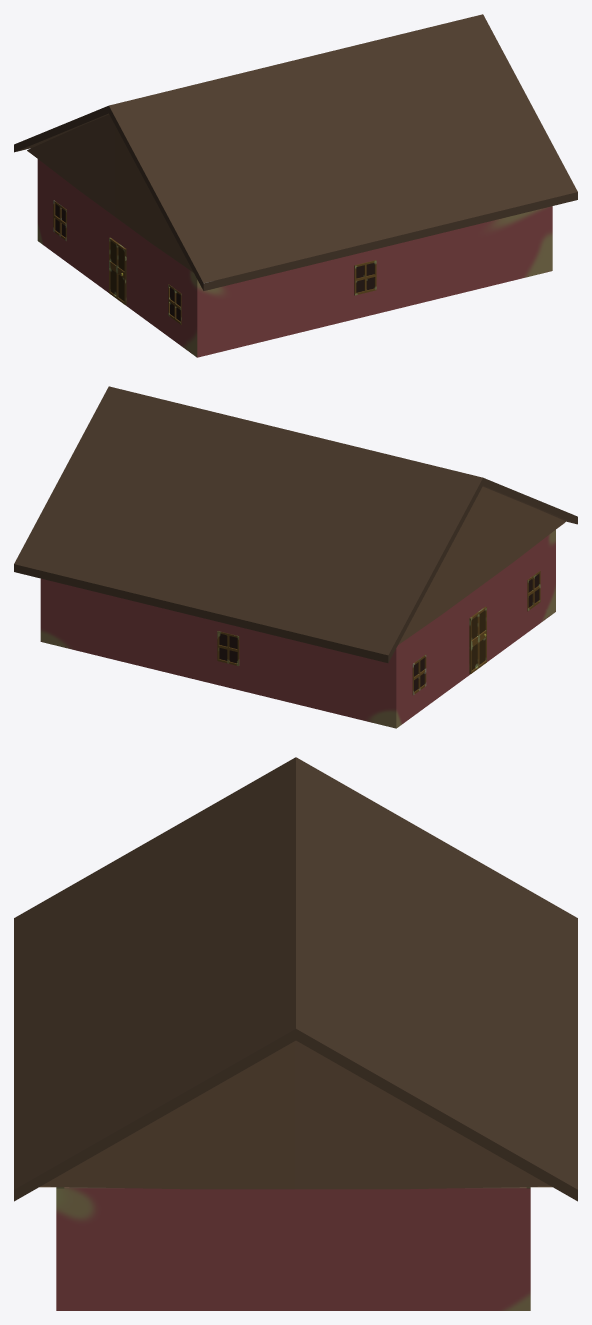
Rendered from CasaTres.fbx.
3 views of the same model, one above another, from view 1: azimuth 30°, elevation 25°; view 2: azimuth 150°, elevation 25°; view 3: azimuth 270°, elevation 25° (orthographic). The views are drawn at different scales.
Parts seen in each view (by area): view 1: Techo Casa 1.001, Cube.011; view 2: Techo Casa 1.001, Cube.011; view 3: Techo Casa 1.001, Cube.011.
Boxes of the visible parts, x1=… form: Techo Casa 1.001: x1=14, y1=14, x2=577, y2=290; Cube.011: x1=37, y1=159, x2=552, y2=357; Techo Casa 1.001: x1=14, y1=386, x2=577, y2=662; Cube.011: x1=40, y1=530, x2=555, y2=728; Techo Casa 1.001: x1=14, y1=757, x2=577, y2=1201; Cube.011: x1=56, y1=1187, x2=530, y2=1310.
Size of the model in its own units: 15838 by 7888 by 13897.
Materials: 2 (2 with a texture image).
